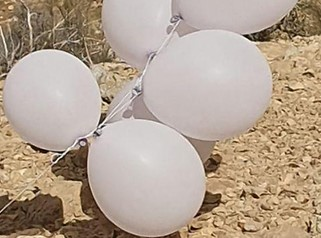Balloon: (141, 28, 272, 140), (87, 118, 207, 235), (2, 49, 101, 151)
